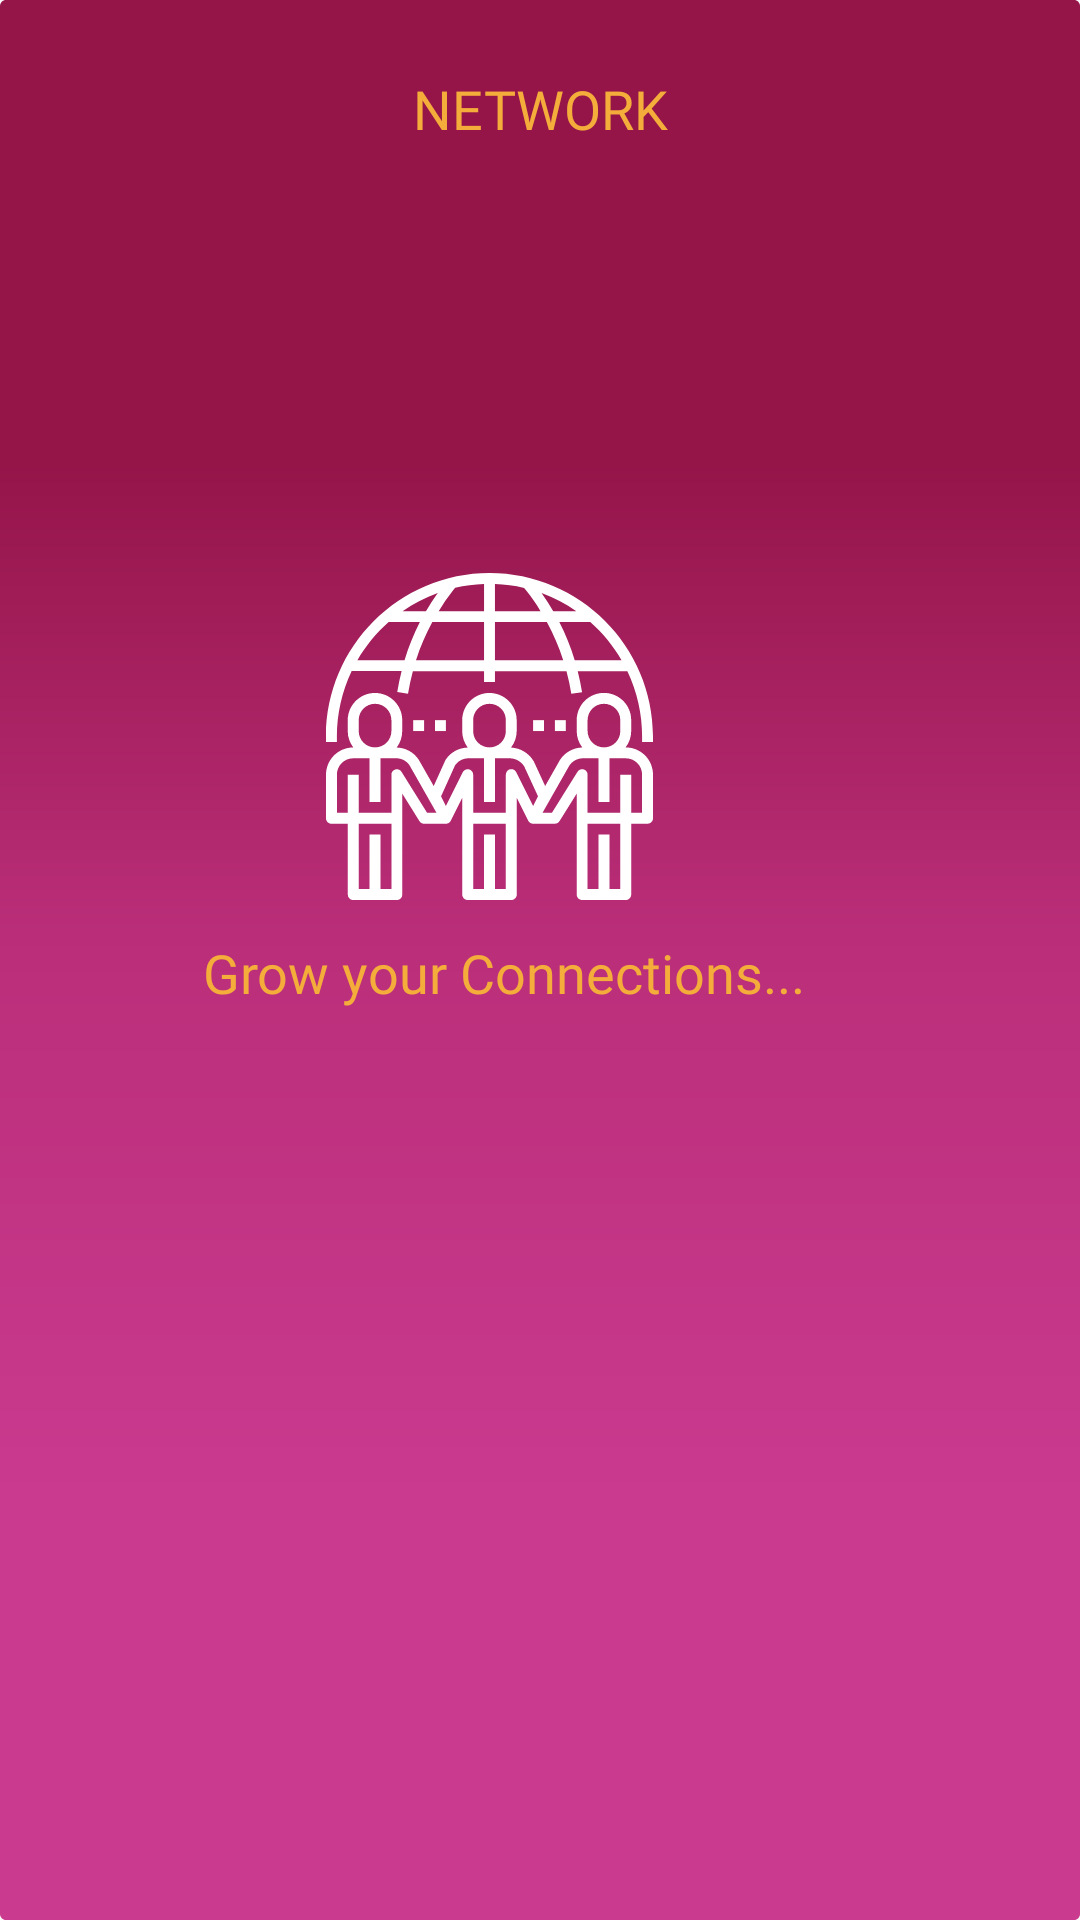

Icon bounding boxes for this 1080 × 1920 phone screenshot, format (x1, y1, x2, y2):
NETWORK: (324, 573, 654, 900)
